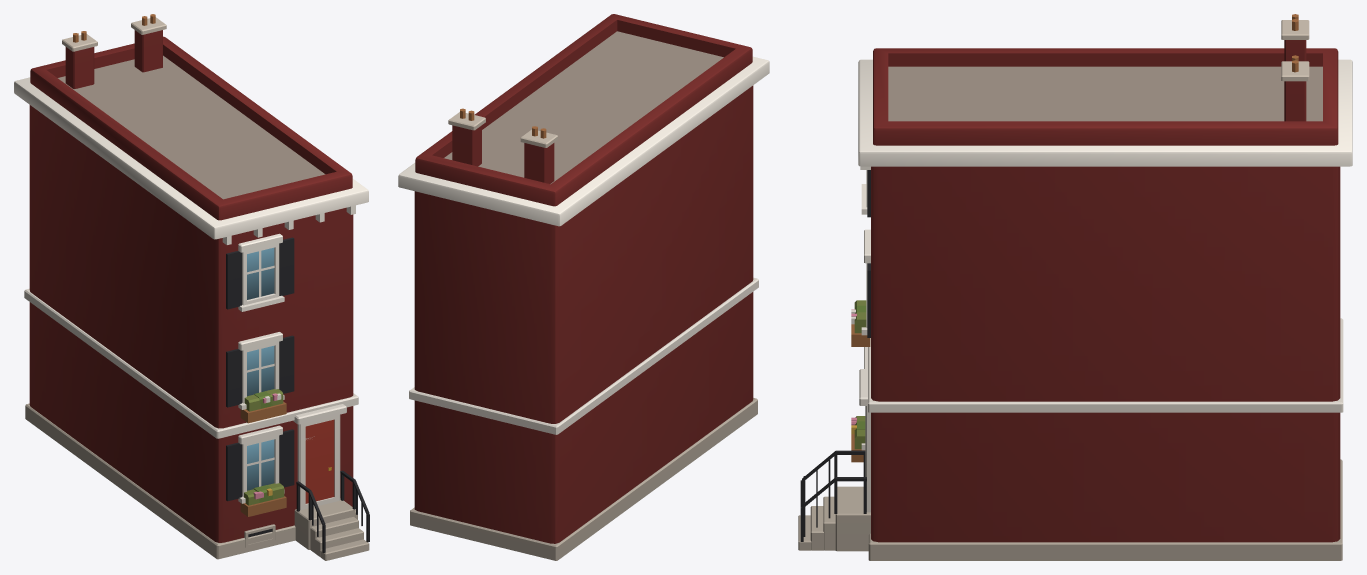
Rendered from beacon_n17.glb.
3 views of the same model, side by side, from view 1: azimuth 30°, elevation 25°; view 2: azimuth 150°, elevation 25°; view 3: azimuth 270°, elevation 25° (orthographic). The views are drawn at different scales.
Visible parts, largest first — view 1: beacon_n17; view 2: beacon_n17; view 3: beacon_n17.
Part boxes in pixels (x1,y1,x2,y2): beacon_n17: (14,14,369,560); beacon_n17: (398,14,769,560); beacon_n17: (798,14,1352,560).
Bounding box in the file's own units: 5.64 × 13.54 × 14.18.
Materials: 1 (1 with a texture image).
